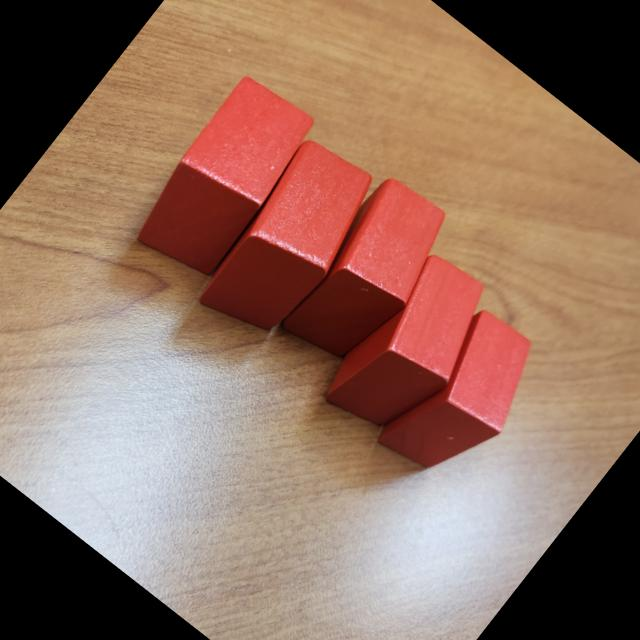red: (187, 130, 393, 354), (122, 70, 328, 292), (268, 168, 466, 382), (313, 242, 510, 456), (374, 304, 557, 500)
